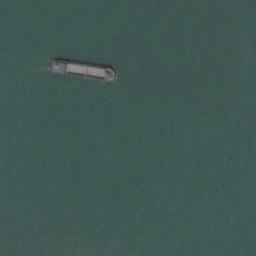boat: (51, 58, 117, 83)
